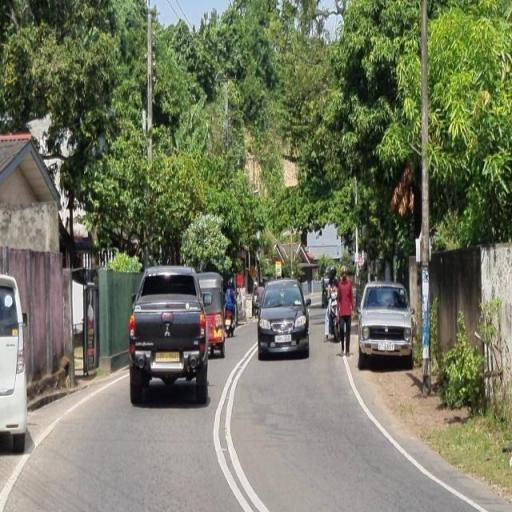double_white_line: (341, 353, 491, 510), (210, 339, 264, 512)
